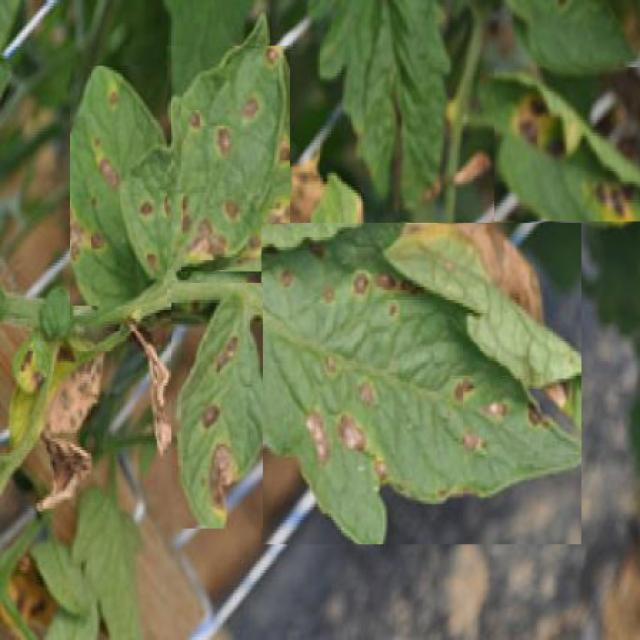Early Blight: (262, 223, 582, 544), (120, 47, 290, 272), (71, 66, 168, 305), (494, 67, 640, 222), (172, 284, 262, 529)
